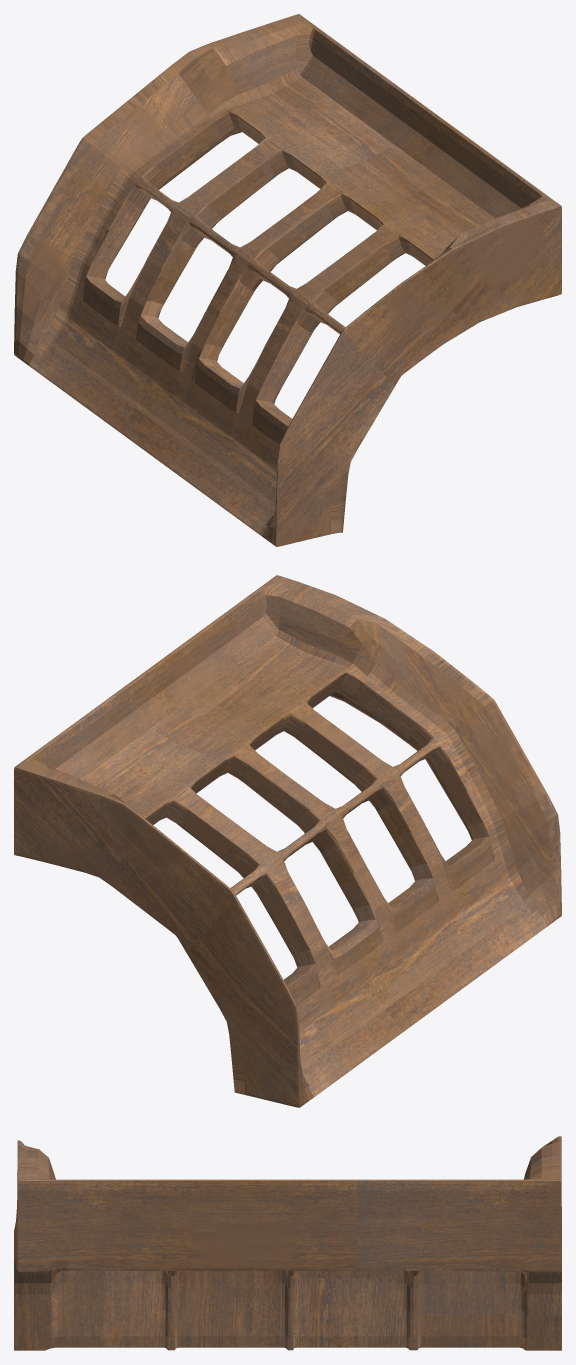
Rendered from Roof01.fbx.
The picture shows the model from 3 angles, top to bottom: view 1: azimuth 30°, elevation 25°; view 2: azimuth 150°, elevation 25°; view 3: azimuth 270°, elevation 25°; orthographic projection. The views are drawn at different scales.
Parts seen in each view (by area): view 1: Roof01; view 2: Roof01; view 3: Roof01.
Part boxes in pixels (x1,y1,x2,y2): Roof01: (14, 14, 561, 546); Roof01: (14, 575, 561, 1107); Roof01: (14, 1136, 561, 1350).
Size of the model in its own units: 440 by 400 by 705.
